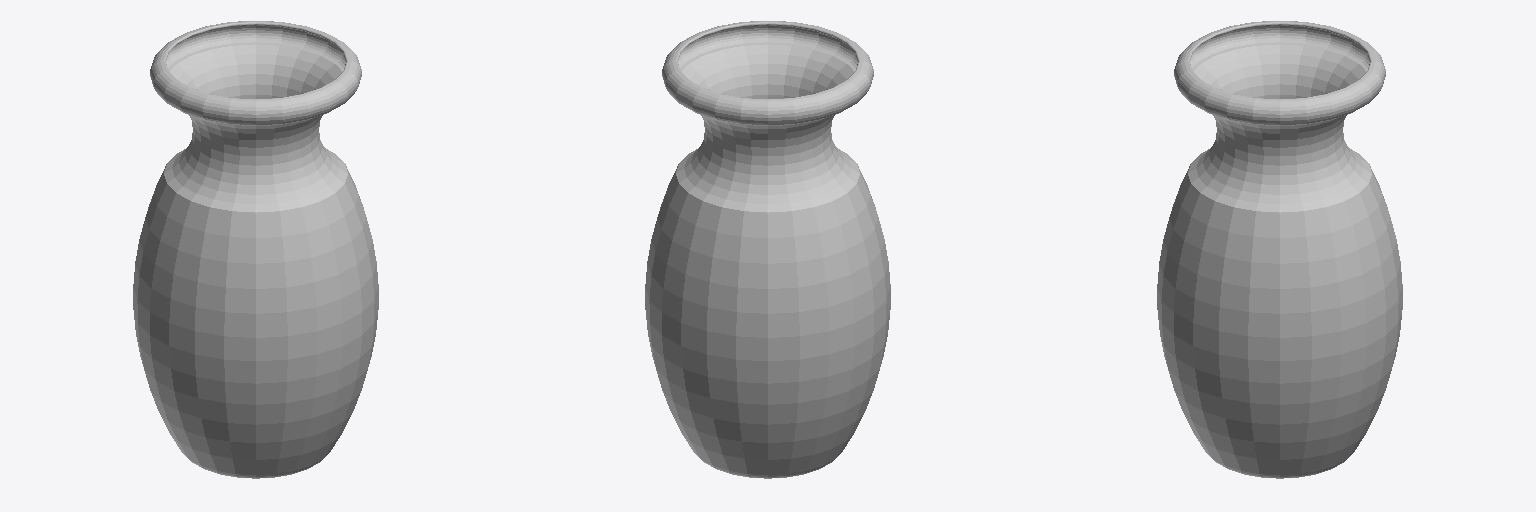
Rendered from Vaso.obj.
3 renders of one model, left to right at view 1: azimuth 30°, elevation 25°; view 2: azimuth 150°, elevation 25°; view 3: azimuth 270°, elevation 25°, orthographic.
Parts seen in each view (by area): view 1: Mesh1 Component_7_1 Model; view 2: Mesh1 Component_7_1 Model; view 3: Mesh1 Component_7_1 Model.
Boxes of the visible parts, x1=… form: Mesh1 Component_7_1 Model: x1=133, y1=21, x2=378, y2=478; Mesh1 Component_7_1 Model: x1=645, y1=21, x2=890, y2=478; Mesh1 Component_7_1 Model: x1=1157, y1=21, x2=1402, y2=478.
Size of the model in its own units: 0.555 by 0.9745 by 0.555.